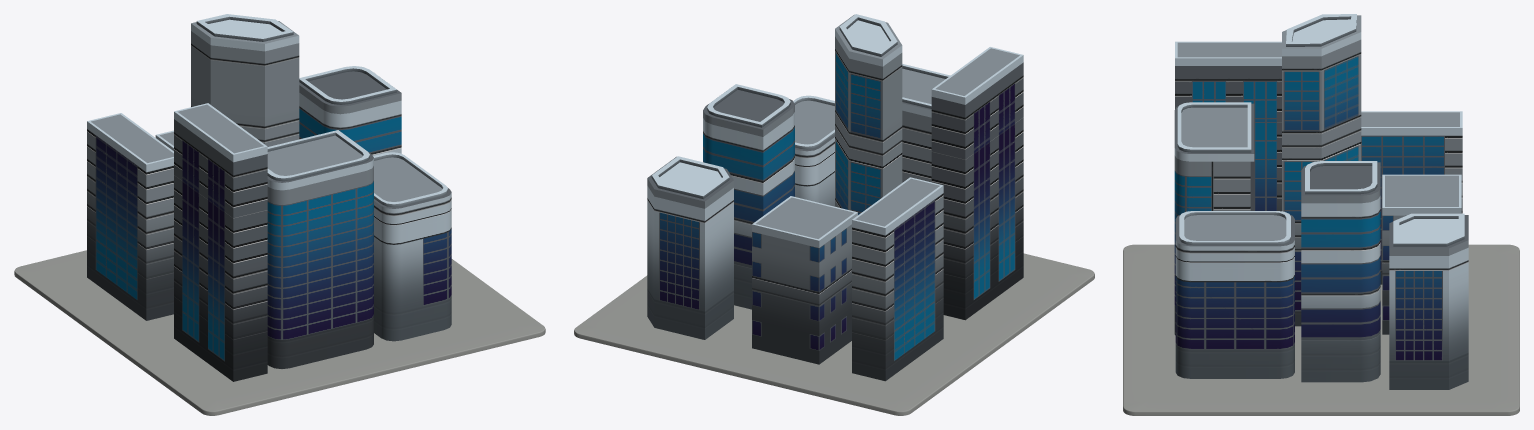
Rendered from Block_SE.glb.
3 renders of one model, left to right at view 1: azimuth 30°, elevation 25°; view 2: azimuth 150°, elevation 25°; view 3: azimuth 270°, elevation 25°, orthographic. The views are drawn at different scales.
Parts seen in each view (by area): view 1: Building19, Building16, Sidewalk10, Building13, Building18, Building01.001, Building14, Building20; view 2: Sidewalk10, Building16, Building24, Building23, Building18, Building01.001, Building14, Building13, Building19, Building20; view 3: Sidewalk10, Building13, Building14, Building23, Building01.001, Building16, Building19, Building24, Building18, Building20.
Boxes of the visible parts, x1,y1,x2,y2 form: Building19: (267,130,373,368); Building16: (174,103,267,381); Sidewalk10: (14,250,545,415); Building13: (373,152,451,341); Building18: (87,129,173,320); Building01.001: (191,14,299,146); Building14: (299,66,401,155); Building20: (87,113,173,171); Sidewalk10: (574,253,1094,415); Building16: (931,47,1023,320); Building24: (752,196,857,364); Building23: (647,156,733,339); Building18: (852,193,943,381); Building01.001: (835,14,902,214); Building14: (703,84,794,309); Building13: (793,95,834,206); Building19: (902,64,950,182); Building20: (852,177,943,235); Sidewalk10: (1123,244,1519,415); Building13: (1175,211,1294,378); Building14: (1301,161,1380,382); Building23: (1389,213,1468,389); Building01.001: (1282,14,1361,326); Building16: (1175,41,1281,211); Building19: (1174,102,1254,335); Building24: (1382,174,1461,334); Building18: (1361,135,1462,284); Building20: (1361,111,1462,135).
Size of the model in its own units: 39.88 by 31.81 by 39.96.
Materials: 1 (1 with a texture image).
